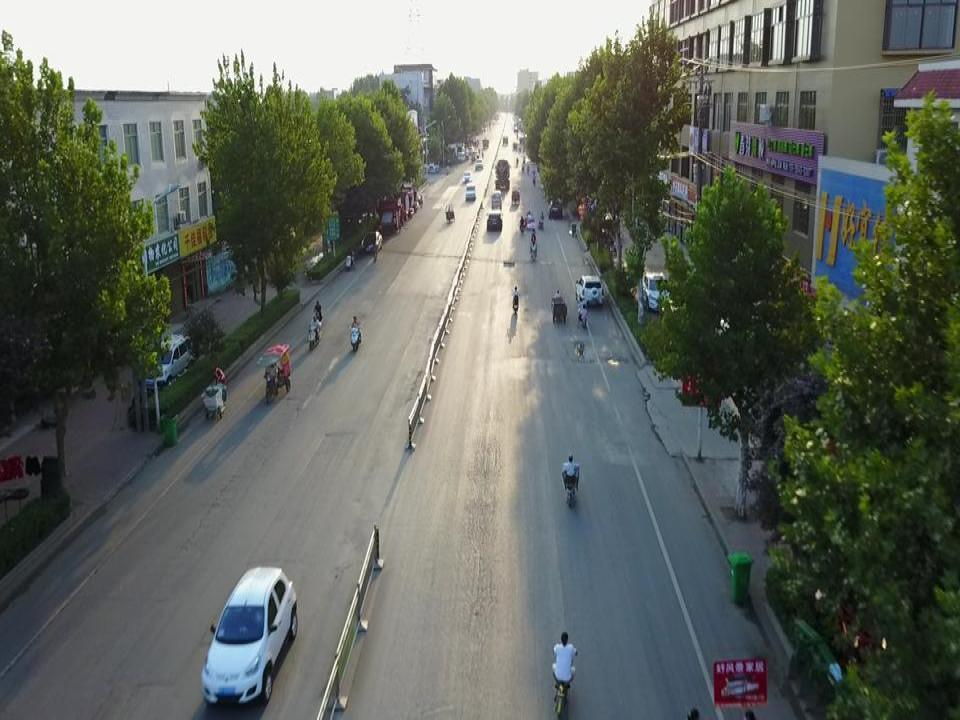car: (202, 564, 299, 705), (137, 332, 196, 396), (641, 269, 674, 312), (575, 274, 605, 310), (359, 229, 384, 255), (486, 208, 504, 231), (546, 199, 563, 220), (464, 182, 477, 202), (461, 169, 473, 184), (474, 157, 484, 171)
truck: (494, 157, 512, 191)
van: (490, 189, 503, 211)
